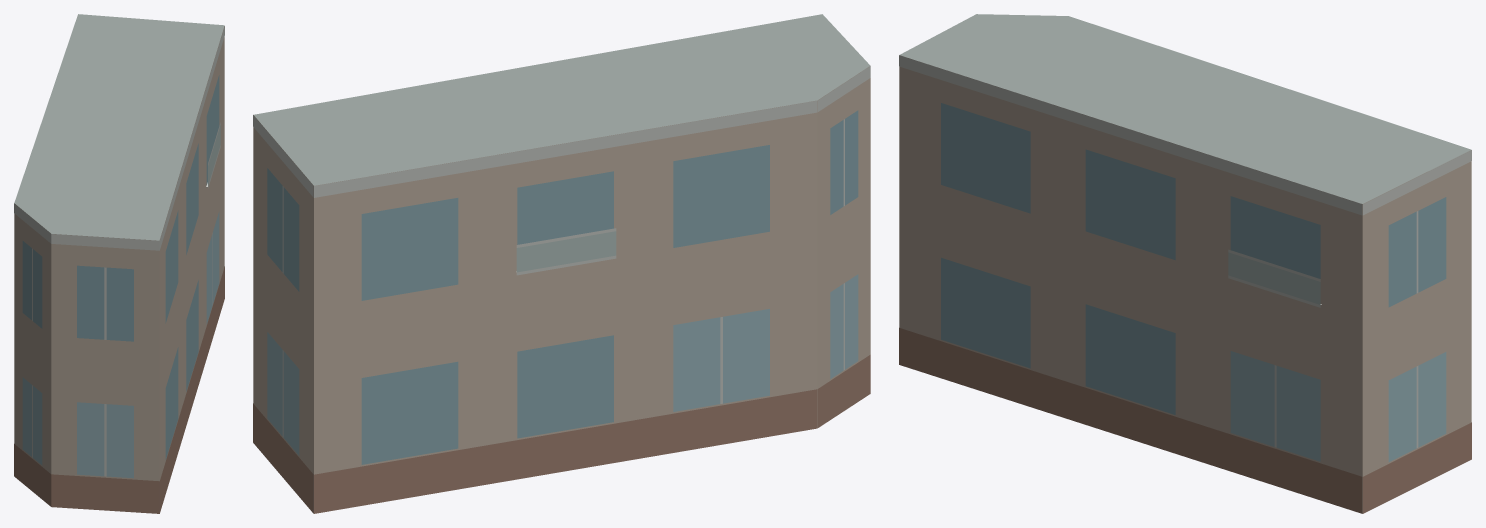
Rendered from survey-upis-32501878.glb.
3 renders of one model, left to right at view 1: azimuth 30°, elevation 25°; view 2: azimuth 150°, elevation 25°; view 3: azimuth 270°, elevation 25°, orthographic. The views are drawn at different scales.
Parts seen in each view (by area): view 1: survey-upis-32501878.tmp; view 2: survey-upis-32501878.tmp; view 3: survey-upis-32501878.tmp.
Part boxes in pixels (bbox=[...]): survey-upis-32501878.tmp: bbox=[14, 14, 224, 513]; survey-upis-32501878.tmp: bbox=[253, 14, 870, 513]; survey-upis-32501878.tmp: bbox=[899, 14, 1471, 513].
Size of the model in its own units: 8.7 by 6.6 by 11.07.
